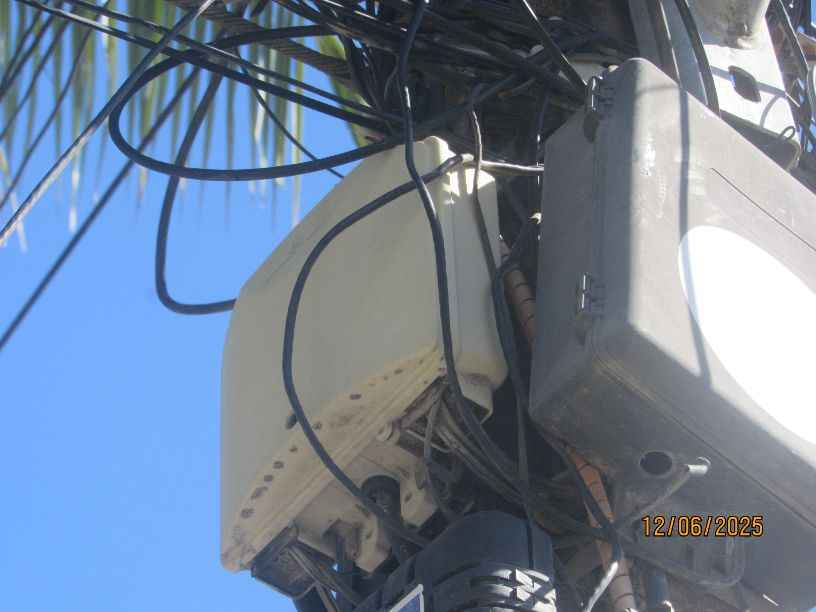caixa_derivacao: (190, 140, 508, 597), (547, 91, 816, 563)
